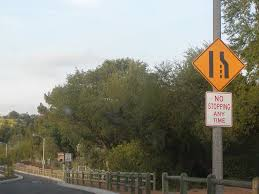laneEnds: (191, 36, 246, 92)
